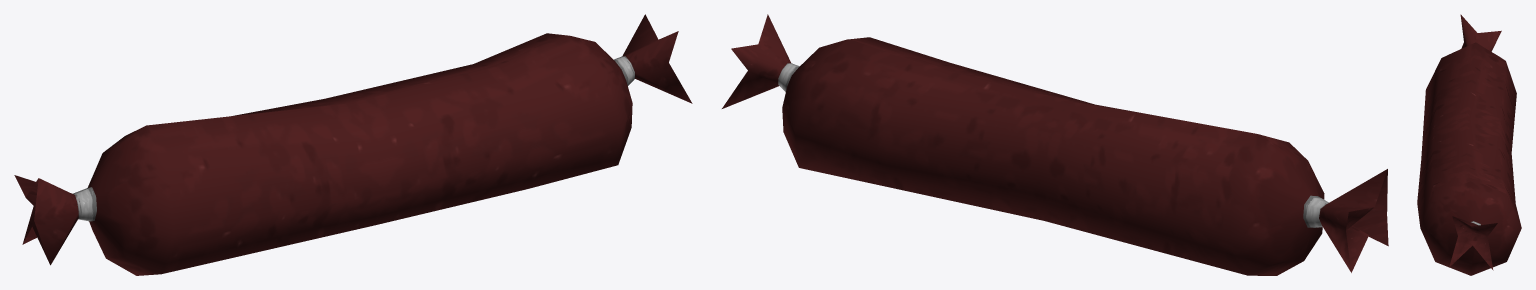
Rendered from SM_PROP_sausage_interior_01.fbx.
3 views of the same model, side by side, from view 1: azimuth 30°, elevation 25°; view 2: azimuth 150°, elevation 25°; view 3: azimuth 270°, elevation 25° (orthographic). The views are drawn at different scales.
Parts seen in each view (by area): view 1: SM_PROP_sausage_interior_01; view 2: SM_PROP_sausage_interior_01; view 3: SM_PROP_sausage_interior_01.
Part boxes in pixels (x1,y1,x2,y2): SM_PROP_sausage_interior_01: (14, 14, 692, 275); SM_PROP_sausage_interior_01: (722, 14, 1388, 275); SM_PROP_sausage_interior_01: (1417, 14, 1521, 275).
Size of the model in its own units: 48.64 by 10.33 by 10.45.
